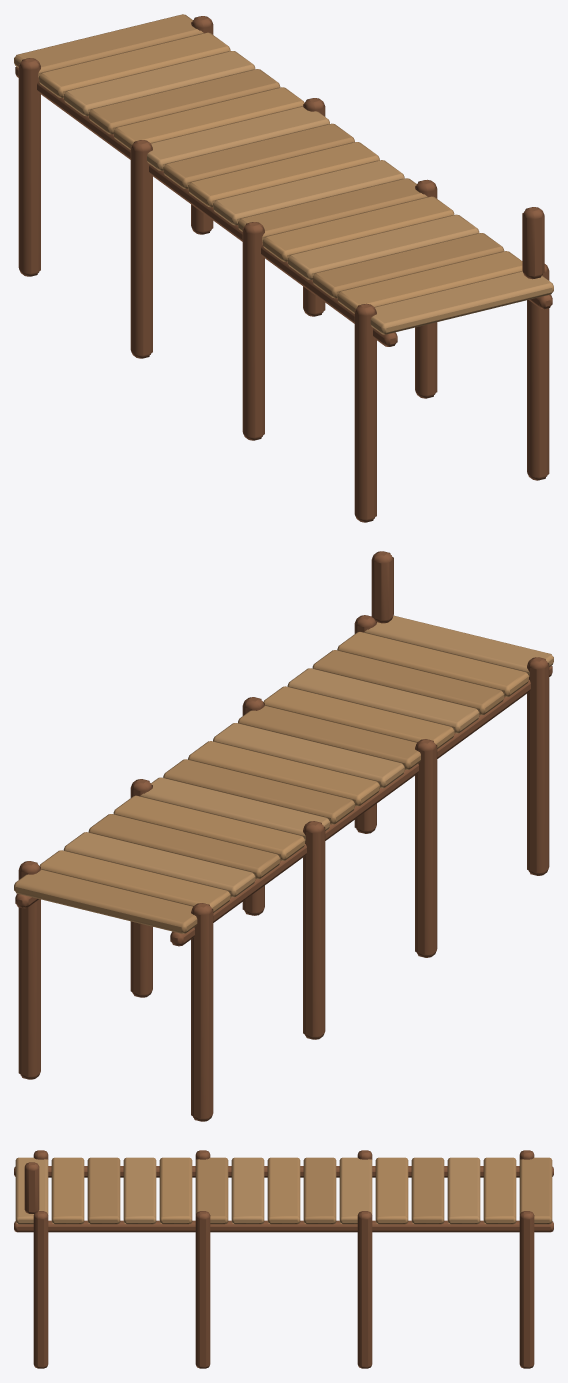
File: jetty.glb
3 renders of one model, top to bottom at view 1: azimuth 30°, elevation 25°; view 2: azimuth 150°, elevation 25°; view 3: azimuth 270°, elevation 25°, orthographic. The views are drawn at different scales.
Parts seen in each view (by area): view 1: body; view 2: body; view 3: body.
Boxes of the visible parts, x1=… form: body: x1=14, y1=14, x2=553, y2=522; body: x1=14, y1=551, x2=553, y2=1121; body: x1=14, y1=1150, x2=553, y2=1368.
Size of the model in its own units: 1.76 by 2.45 by 6.
